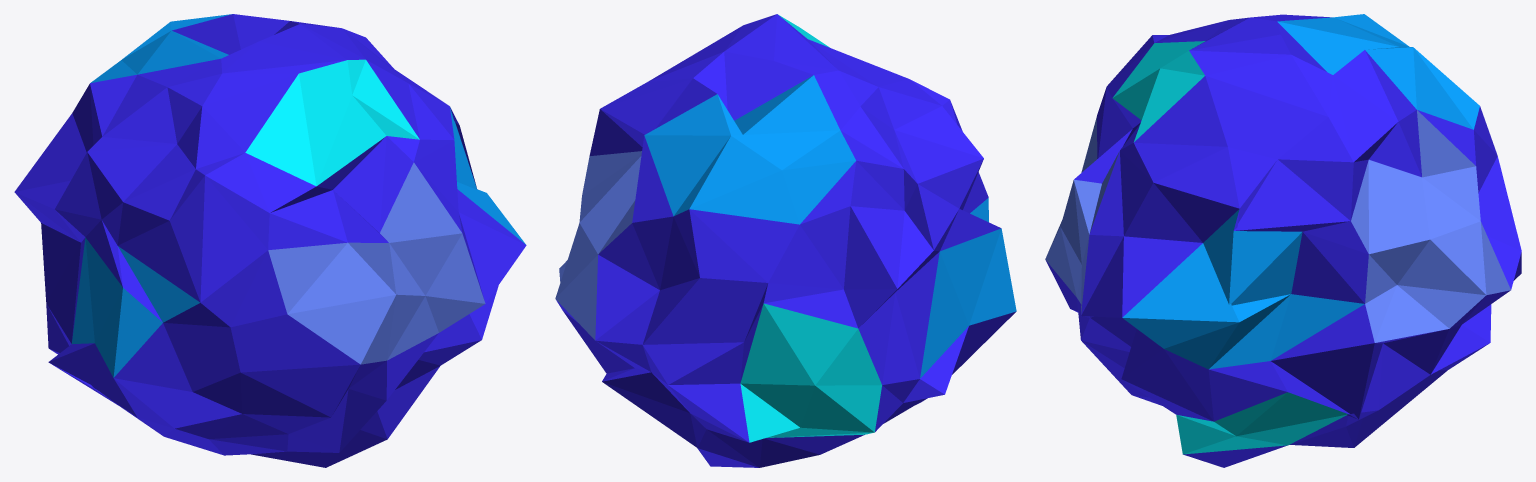
The model's file is Meteor_2.fbx.
The picture shows the model from 3 angles, left to right: view 1: azimuth 30°, elevation 25°; view 2: azimuth 150°, elevation 25°; view 3: azimuth 270°, elevation 25°; orthographic projection. The views are drawn at different scales.
Visible parts, largest first — view 1: Icosphere.001; view 2: Icosphere.001; view 3: Icosphere.001.
Part boxes in pixels (x1=…): Icosphere.001: x1=14, y1=14, x2=526, y2=467; Icosphere.001: x1=555, y1=14, x2=1016, y2=467; Icosphere.001: x1=1045, y1=14, x2=1521, y2=467.
Size of the model in its own units: 160 by 159 by 163.
